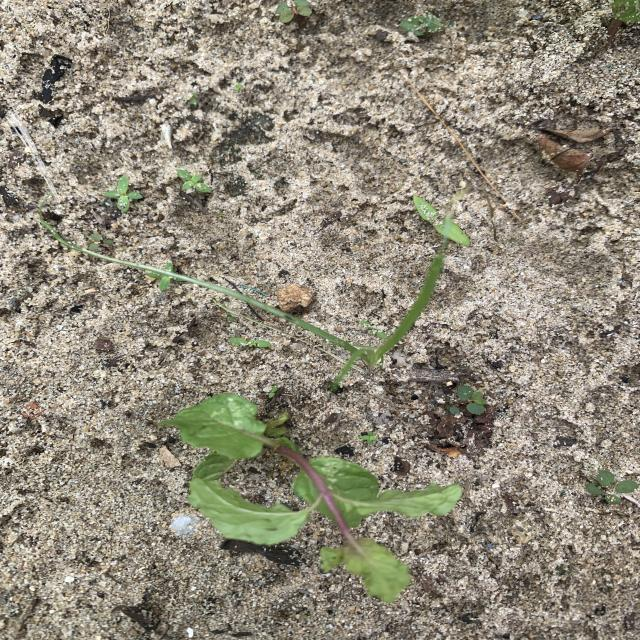crop: (158, 394, 462, 602)
weed: (41, 220, 444, 389), (413, 189, 470, 247), (586, 470, 640, 505), (104, 175, 143, 213), (447, 385, 492, 417), (275, 0, 324, 24), (400, 14, 443, 38), (176, 168, 213, 194), (611, 0, 640, 24), (360, 321, 387, 339), (229, 337, 271, 348), (88, 233, 115, 250), (360, 432, 378, 444), (186, 92, 199, 108), (159, 277, 171, 292), (268, 385, 278, 399), (232, 83, 244, 93), (165, 263, 171, 269)
